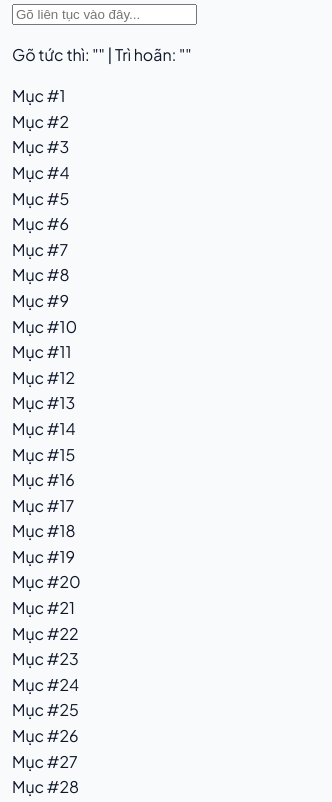
Test: 15 React Hooks + TypeScript Concise Demos › 10. useDeferredValue: cập nhật query và deferredQuery
Type "Hooks" into the field with placeholder "Gõ liên tục vào đây...".
click(104, 14); type("Hooks")  # box [12,4,197,25]
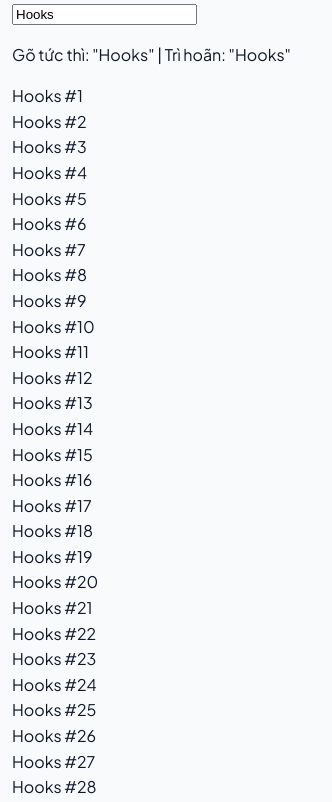
Expected: the text "Gõ tức thì: \"Hooks\" | Trì hoãn: \"Hooks\"" is shown, [12,44,291,65]
